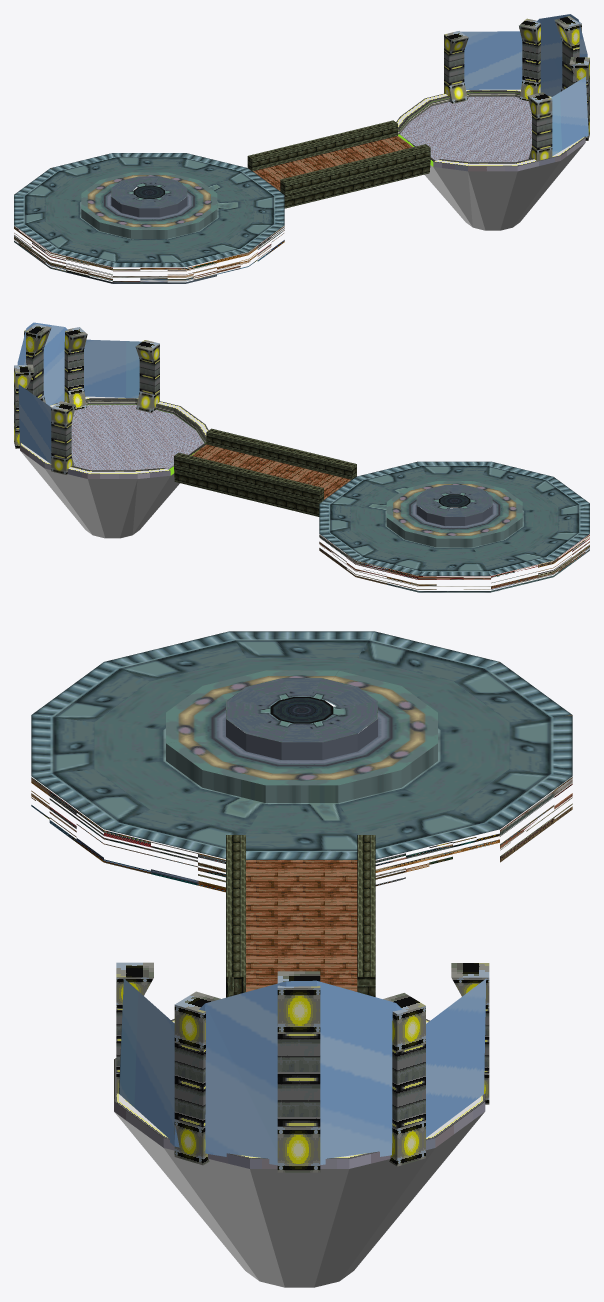
Rendered from nova_room_2.dae.
The picture shows the model from 3 angles, top to bottom: view 1: azimuth 30°, elevation 25°; view 2: azimuth 150°, elevation 25°; view 3: azimuth 270°, elevation 25°; orthographic projection. The views are drawn at different scales.
Visible parts, largest first — view 1: central, Room_Sci, Path, Plane, Cube.000, Cube.002, Cube.007, Cube.008, Cube.006; view 2: central, Room_Sci, Path, Plane, Cube.006, Cube.002, Cube.007, Cube.008, Cube.000; view 3: central, Plane, Room_Sci, Path, Cube.008, Cube.000, Cube.006, Cube.002, Cube.007.
Part boxes in pixels (x1,y1,x2,y2): central: (14, 153, 284, 283); Room_Sci: (396, 89, 585, 230); Path: (247, 120, 430, 208); Plane: (461, 14, 588, 156); Cube.000: (519, 18, 540, 100); Cube.002: (444, 31, 468, 103); Cube.007: (527, 92, 552, 160); Cube.008: (554, 16, 581, 91); Cube.006: (569, 57, 589, 140); central: (319, 461, 589, 592); Room_Sci: (20, 396, 208, 538); Path: (174, 428, 356, 516); Plane: (17, 322, 141, 463); Cube.006: (64, 327, 87, 409); Cube.002: (51, 401, 75, 474); Cube.007: (135, 340, 159, 412); Cube.008: (24, 324, 51, 402); Cube.000: (14, 364, 34, 448); central: (31, 631, 572, 892); Plane: (119, 978, 486, 1165); Room_Sci: (114, 1019, 485, 1287); Path: (226, 835, 375, 997); Cube.008: (277, 971, 320, 1172); Cube.000: (383, 993, 425, 1166); Cube.006: (174, 991, 220, 1165); Cube.002: (451, 963, 489, 1104); Cube.007: (116, 962, 153, 1093).
Size of the model in its own units: 38.09 by 16.43 by 12.19.
